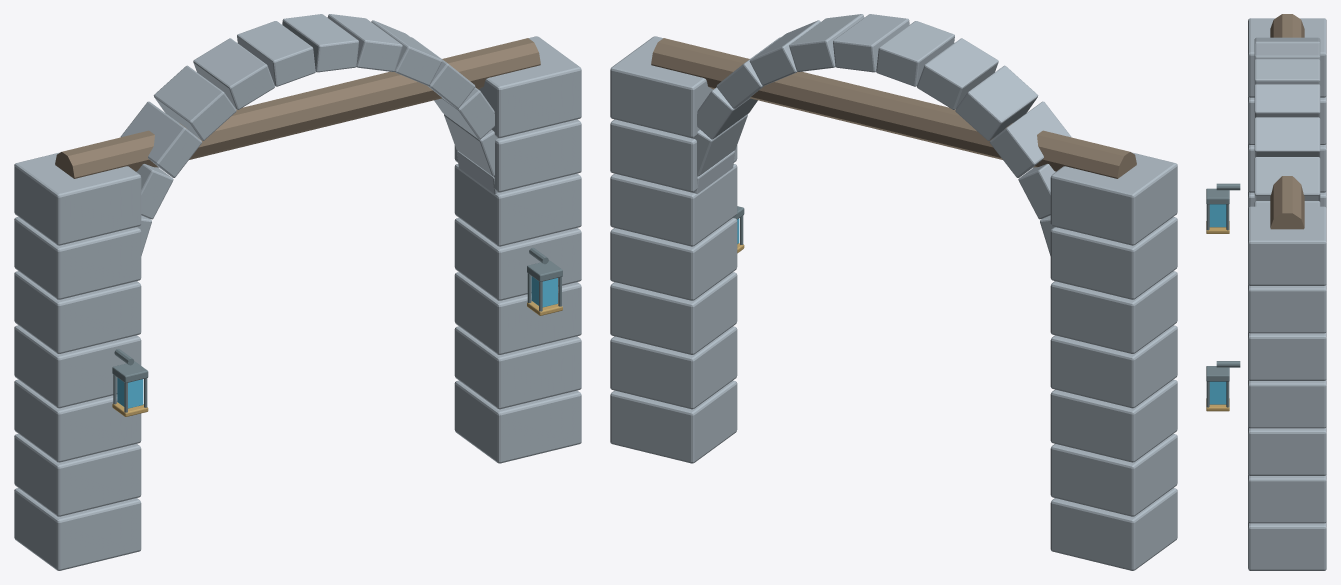
The model's file is a3_gate.glb.
3 renders of one model, left to right at view 1: azimuth 30°, elevation 25°; view 2: azimuth 150°, elevation 25°; view 3: azimuth 270°, elevation 25°, orthographic. The views are drawn at different scales.
Visible parts, largest first — view 1: Body.023; view 2: Body.023; view 3: Body.023.
Part boxes in pixels (x1=…): Body.023: x1=14, y1=14, x2=581, y2=570; Body.023: x1=610, y1=14, x2=1177, y2=570; Body.023: x1=1206, y1=14, x2=1326, y2=570.
Size of the model in its own units: 4.05 by 3.39 by 0.92.
